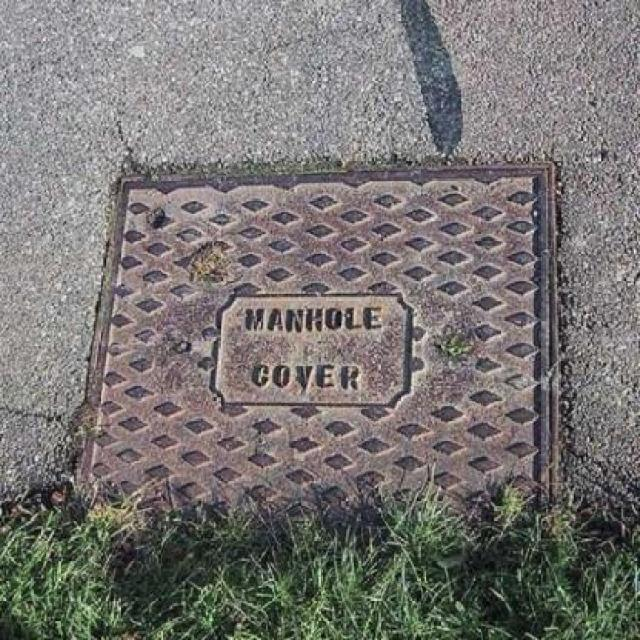Manhole: (44, 144, 582, 520)
